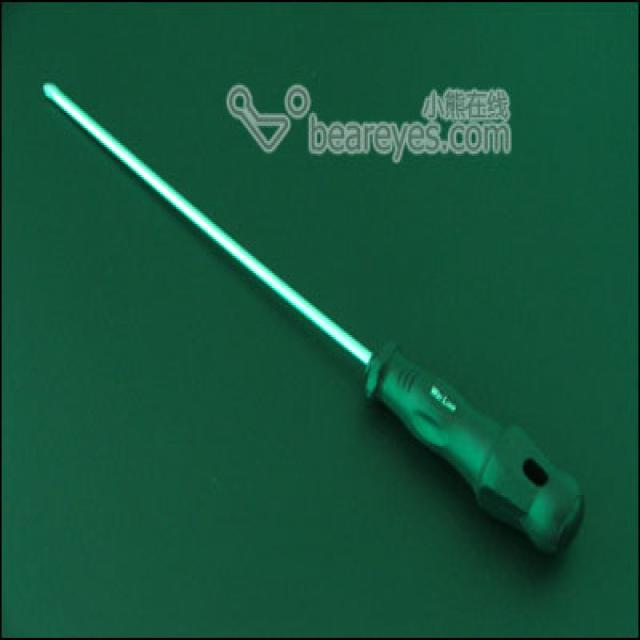screw driver: (31, 18, 598, 564)
